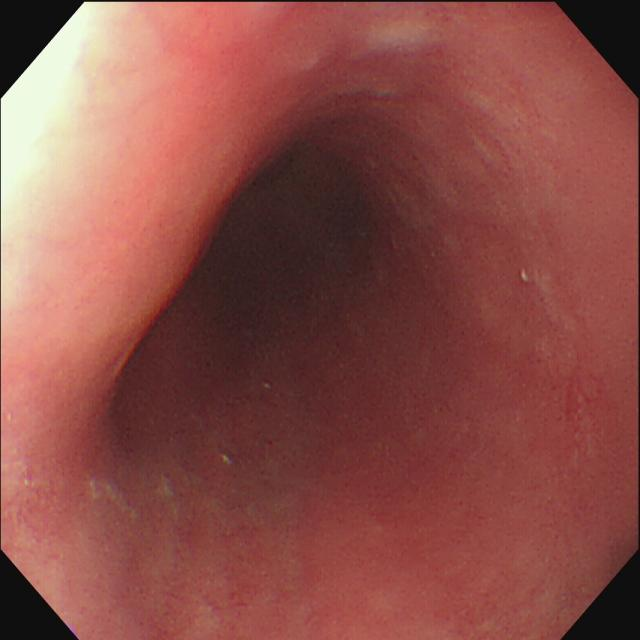J: (354, 25, 447, 63), (89, 481, 140, 520)
